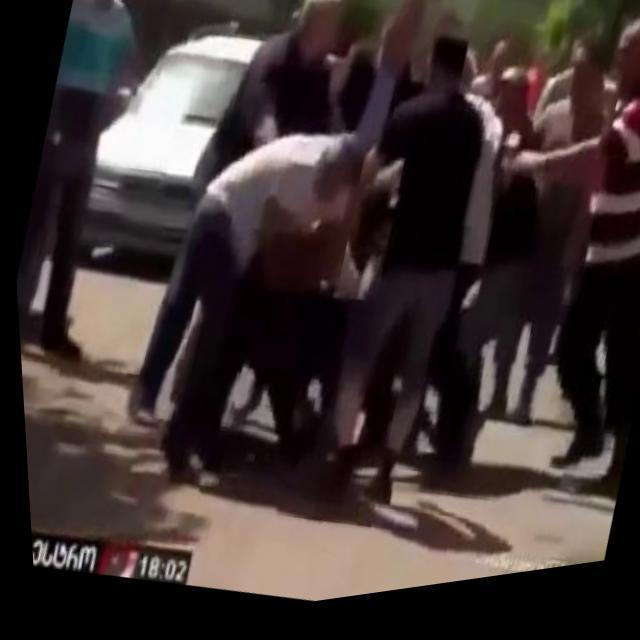fight: (98, 95, 476, 547)
